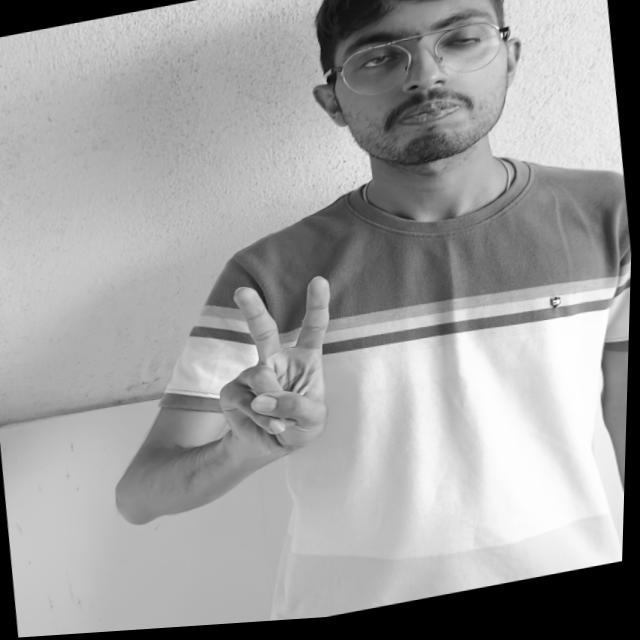Victory: (162, 259, 411, 483)
